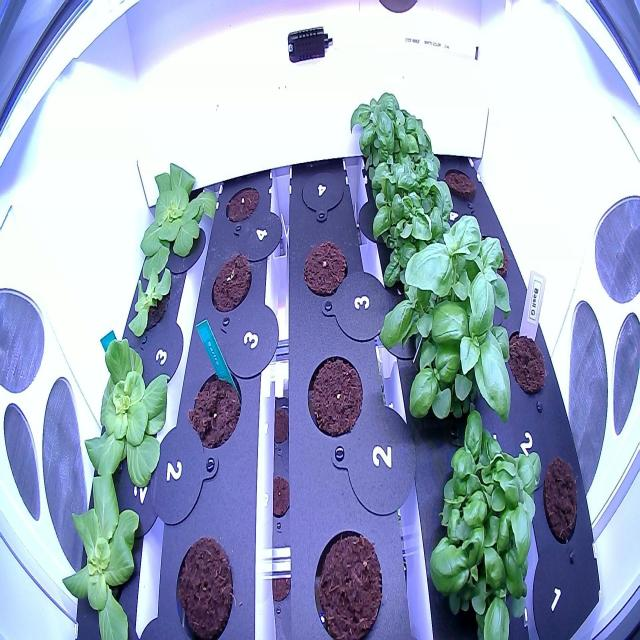empty_pod: (298, 160, 348, 225)
germination: (208, 244, 255, 326)
pod: (309, 521, 388, 638), (170, 531, 240, 640), (185, 351, 247, 461), (304, 344, 368, 446), (537, 444, 586, 559), (502, 312, 551, 403), (300, 233, 350, 305), (218, 178, 262, 232), (439, 154, 481, 204)
young: (81, 322, 178, 496), (57, 468, 153, 637), (132, 153, 220, 288), (125, 263, 179, 339)
